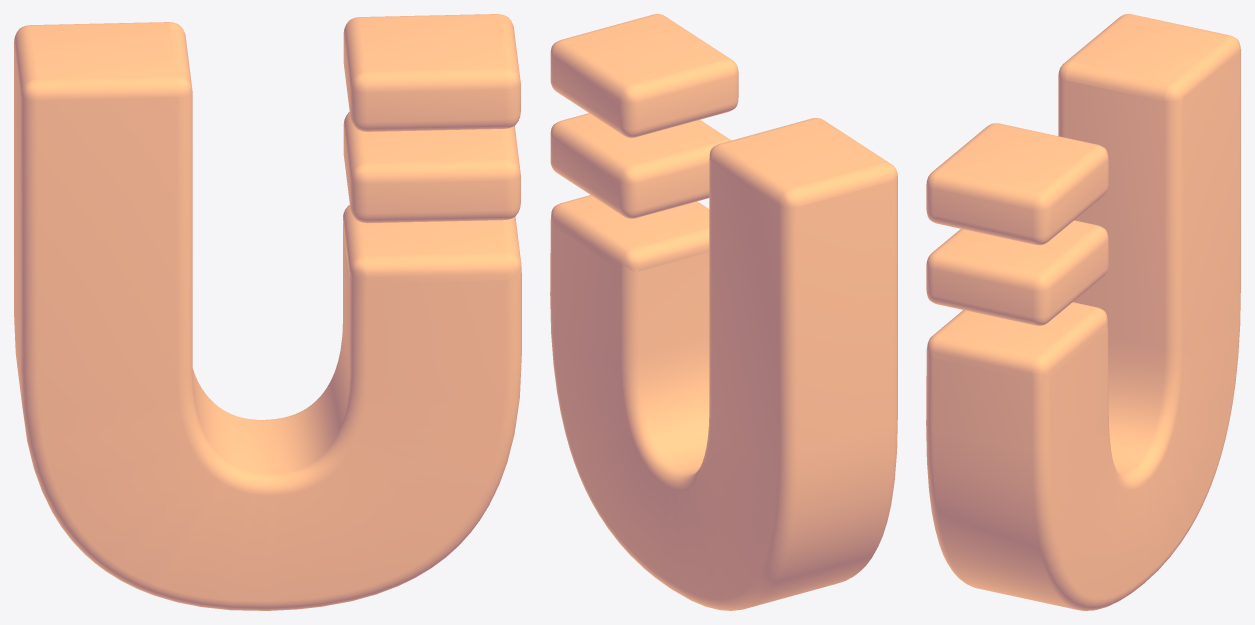
The picture shows the model from 3 angles, left to right: view 1: azimuth 30°, elevation 25°; view 2: azimuth 150°, elevation 25°; view 3: azimuth 270°, elevation 25°; orthographic projection. The views are drawn at different scales.
Parts seen in each view (by area): view 1: Cube_1; view 2: Cube_1; view 3: Cube_1.
Part boxes in pixels (x1,y1,x2,y2): Cube_1: (14,14,521,610); Cube_1: (550,14,897,610); Cube_1: (926,14,1240,610).
Size of the model in its own units: 883 by 1029 by 619.
